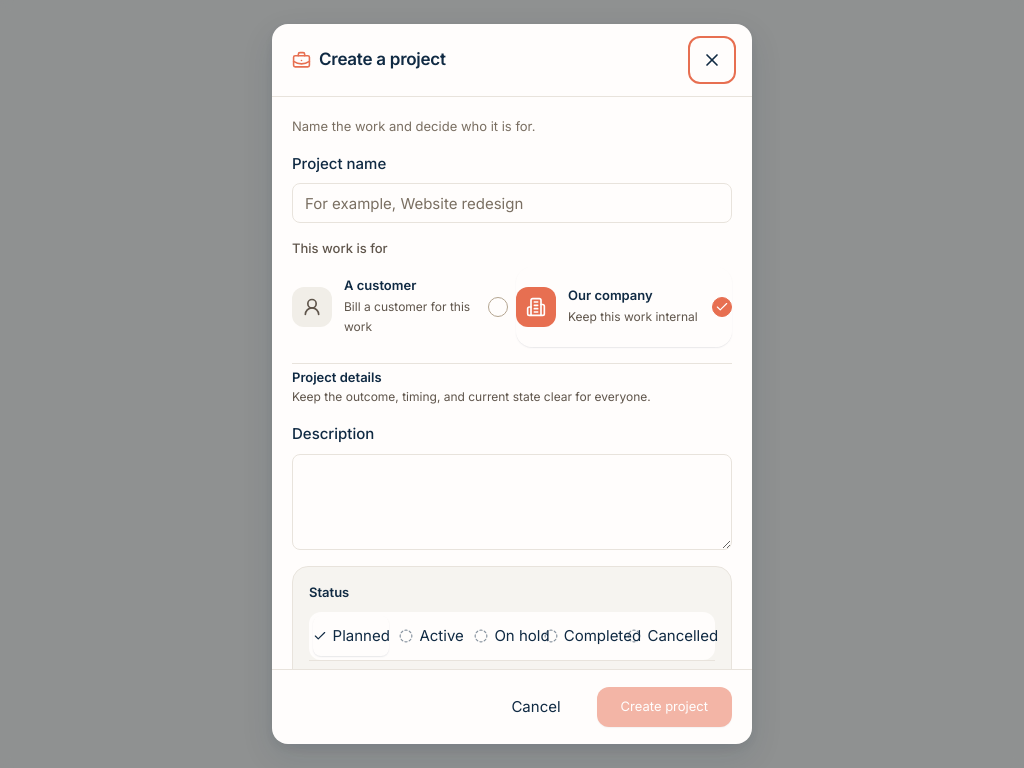
Test: the new project journey › explains when client work has no available customers
The width and height of the screenshot is (1024, 768).
What coordinates should you click on to do the following:
click the radio button labelled "A customer Bill a customer for this work"
I would click on:
 (400, 306)
Its box is [292,266,508,346].
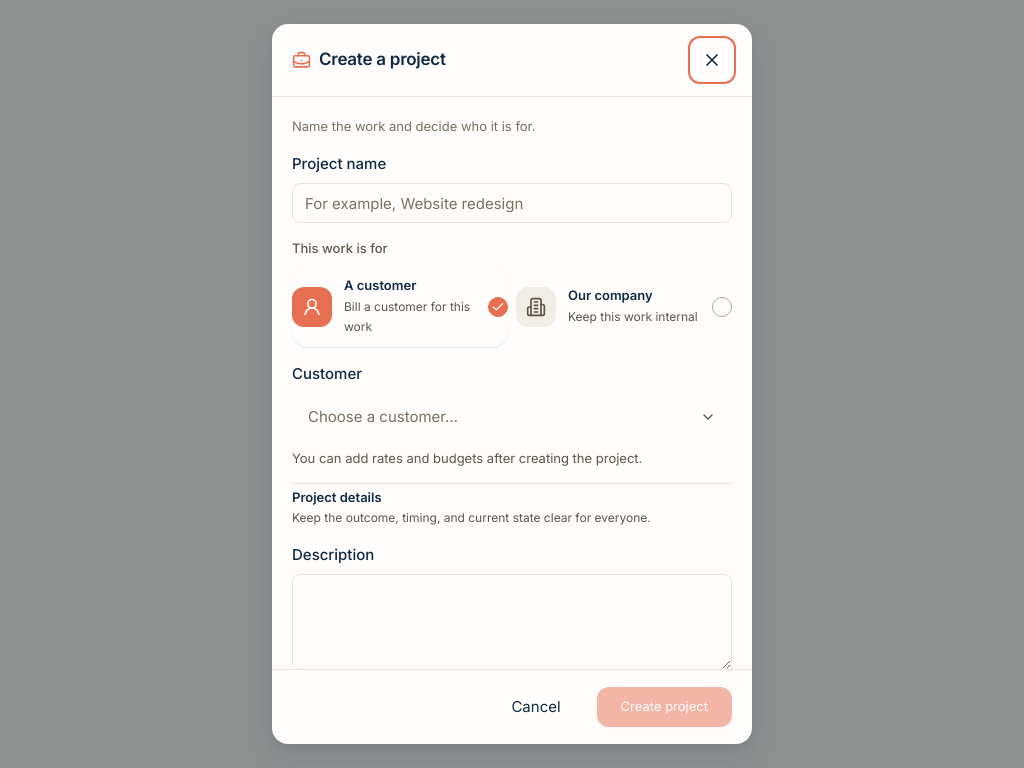
What coordinates should you click on to do the following:
click the dropdown
I would click on:
 (383, 416)
Its box is [292,393,732,441].
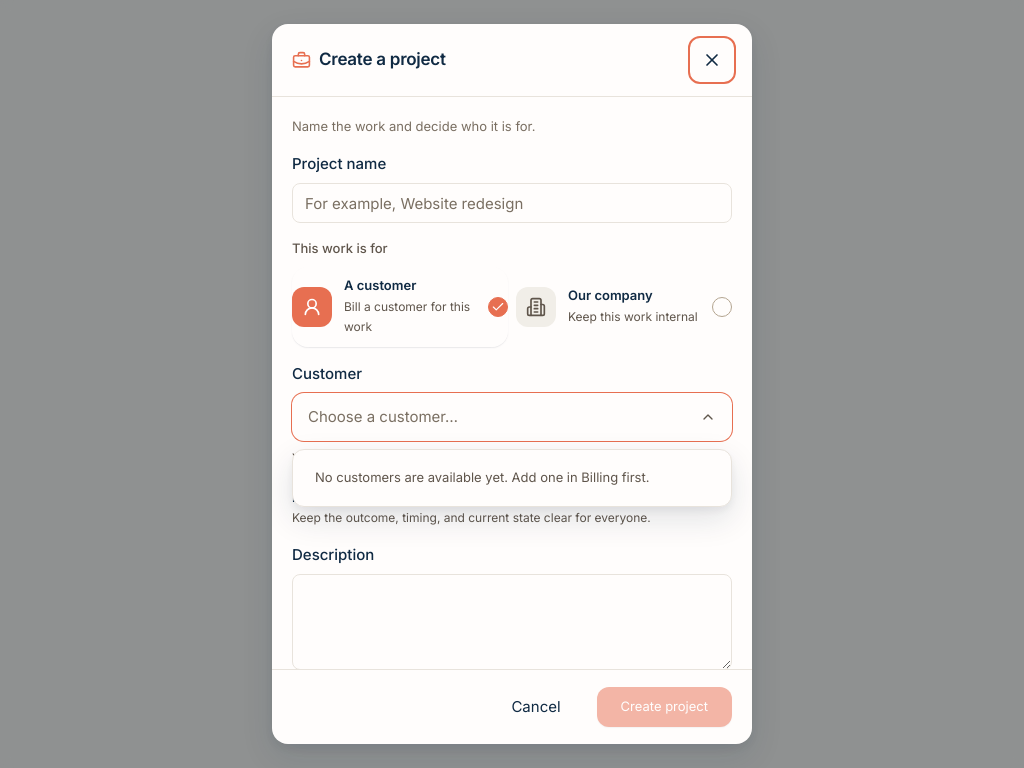
Now the text "No customers are available yet. Add one in Billing first." is shown, box [315,469,650,485]
